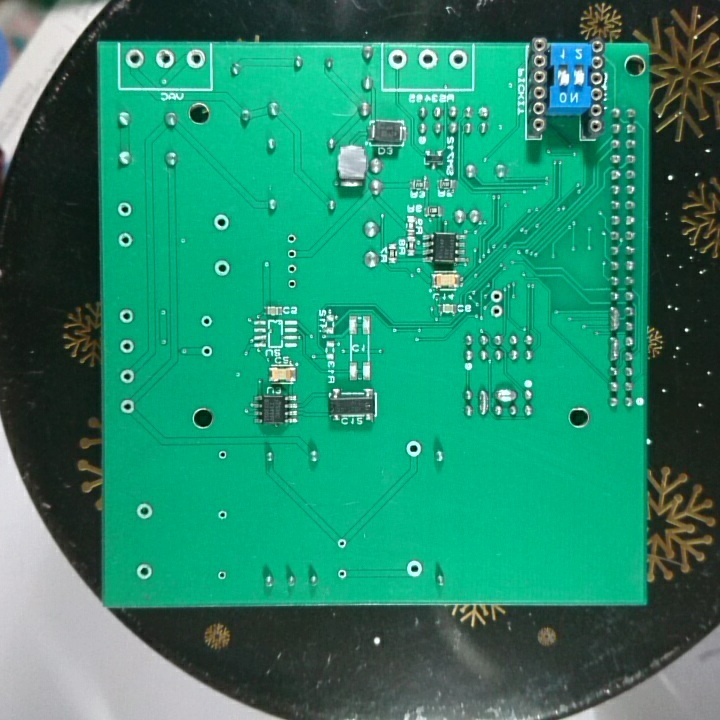F: (415, 47, 440, 72), (152, 47, 176, 73), (183, 46, 207, 72), (445, 48, 469, 74), (123, 46, 146, 72), (386, 49, 410, 72), (134, 560, 157, 583), (112, 197, 134, 220), (402, 438, 424, 460), (134, 501, 156, 523), (116, 337, 138, 359), (211, 210, 232, 233), (210, 258, 234, 278), (116, 367, 139, 386), (117, 398, 137, 419), (116, 230, 135, 252), (117, 307, 137, 327), (404, 558, 422, 579), (486, 303, 508, 320), (486, 288, 507, 304), (212, 567, 229, 586), (214, 446, 231, 465), (197, 343, 214, 361), (199, 312, 217, 329), (283, 246, 301, 263), (214, 507, 230, 525), (283, 260, 302, 275), (284, 230, 300, 247), (334, 534, 349, 552), (334, 566, 350, 582), (285, 276, 301, 291)
P: (605, 303, 622, 335), (605, 333, 622, 364), (491, 385, 520, 403), (477, 387, 491, 418)
